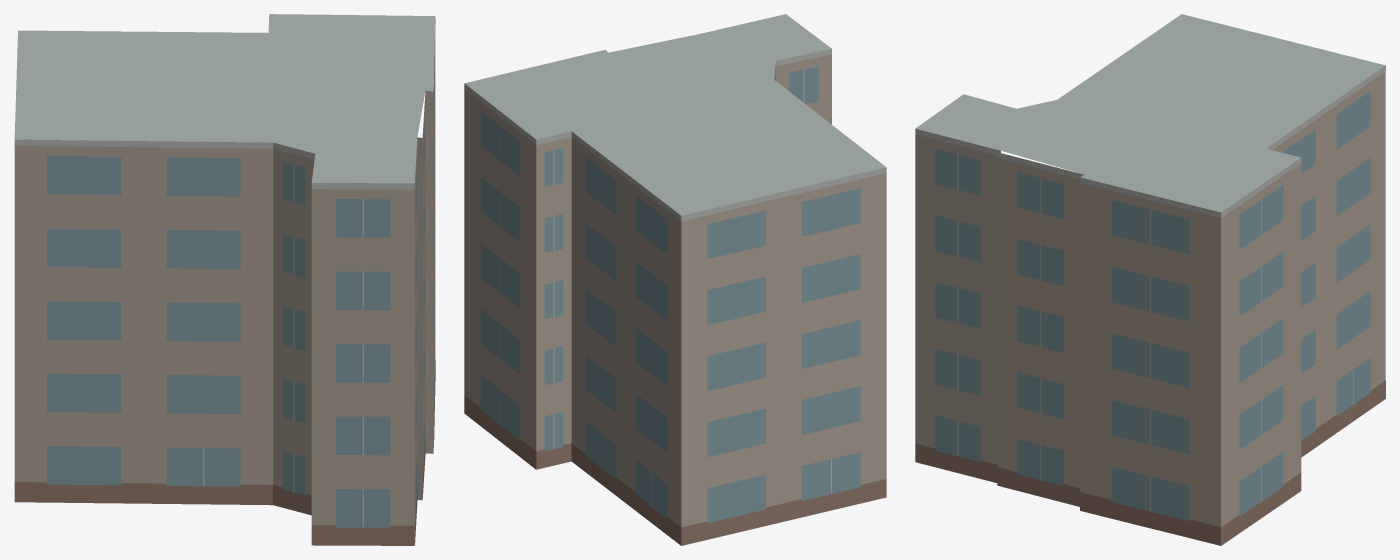
The model's file is survey-upis-33018689.glb.
3 renders of one model, left to right at view 1: azimuth 30°, elevation 25°; view 2: azimuth 150°, elevation 25°; view 3: azimuth 270°, elevation 25°, orthographic. The views are drawn at different scales.
Parts seen in each view (by area): view 1: survey-upis-33018689.tmp; view 2: survey-upis-33018689.tmp; view 3: survey-upis-33018689.tmp.
Boxes of the visible parts, bbox=[...] form: survey-upis-33018689.tmp: bbox=[14, 14, 435, 545]; survey-upis-33018689.tmp: bbox=[464, 14, 886, 545]; survey-upis-33018689.tmp: bbox=[915, 14, 1385, 545].
Size of the model in its own units: 18.13 by 14.2 by 18.17.
